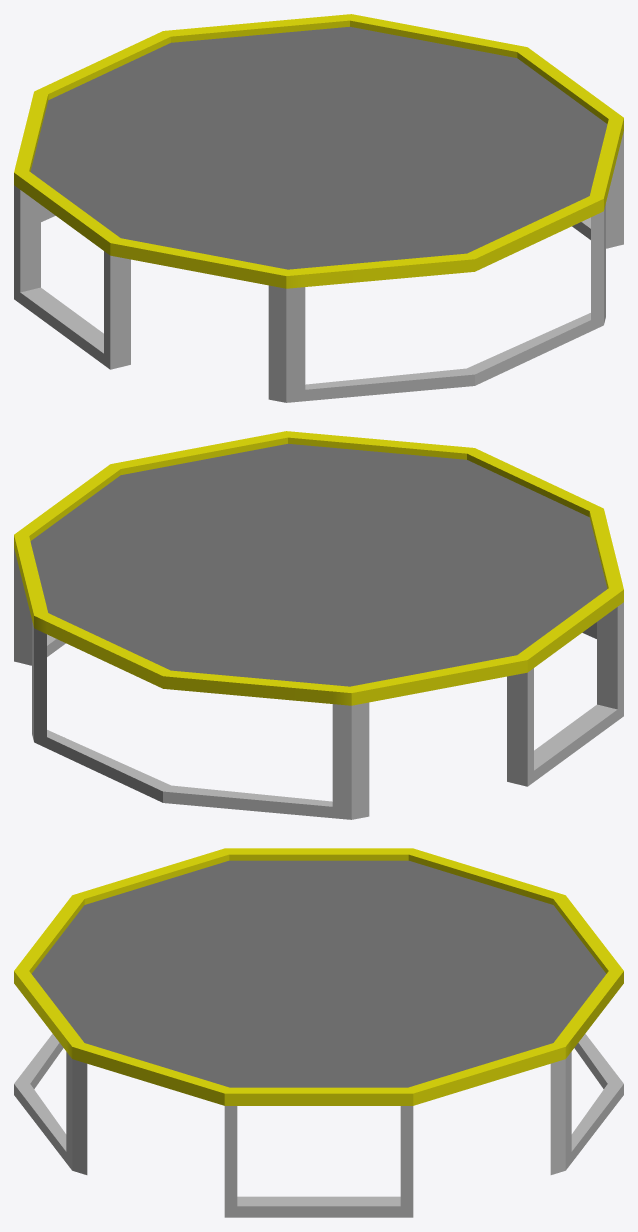
Rendered from trampoline01.fbx.
3 renders of one model, top to bottom at view 1: azimuth 30°, elevation 25°; view 2: azimuth 150°, elevation 25°; view 3: azimuth 270°, elevation 25°, orthographic. The views are drawn at different scales.
Parts seen in each view (by area): view 1: pCylinder5; view 2: pCylinder5; view 3: pCylinder5.
Part boxes in pixels (<box>): pCylinder5: <box>14,14,623,402</box>; pCylinder5: <box>14,431,623,819</box>; pCylinder5: <box>14,848,623,1217</box>.
Bounding box in the file's own units: 11.66 × 2.75 × 12.26.
